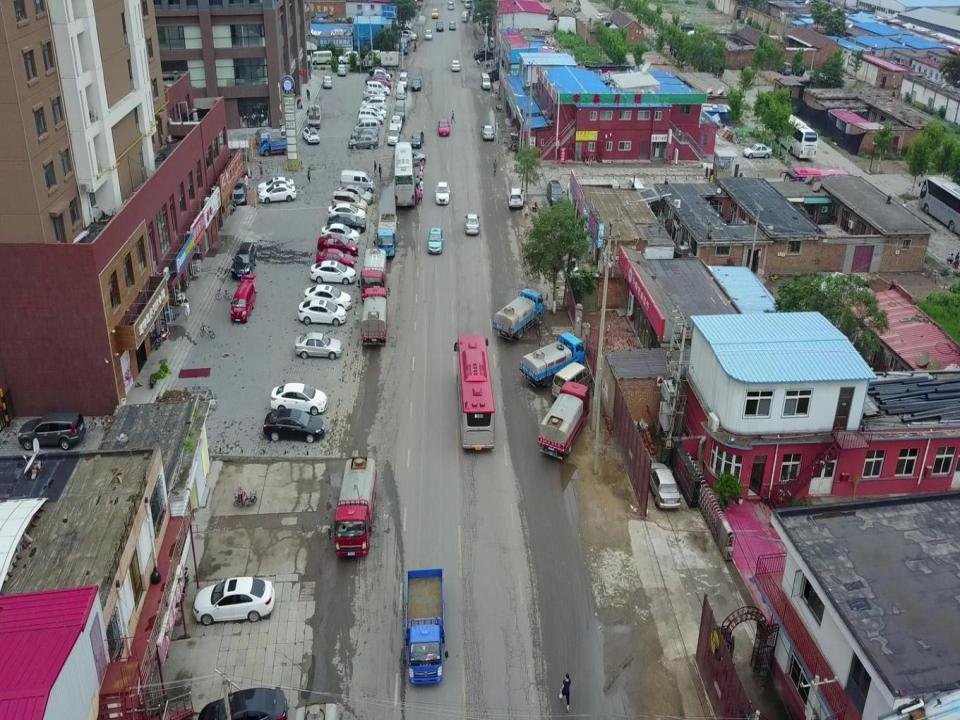bus: (453, 333, 496, 451), (779, 167, 851, 206), (774, 111, 818, 159), (393, 141, 416, 208)
car: (192, 576, 276, 626), (196, 687, 288, 720), (17, 410, 86, 450), (262, 408, 324, 442), (270, 381, 328, 415), (647, 461, 682, 509), (294, 332, 343, 360), (298, 298, 347, 326), (304, 283, 352, 311), (310, 260, 356, 285), (317, 232, 359, 256), (231, 242, 257, 279), (320, 222, 360, 246), (315, 248, 355, 271), (205, 192, 247, 213), (326, 213, 366, 234), (327, 202, 367, 223), (258, 183, 296, 203), (336, 184, 373, 204), (258, 176, 295, 194), (394, 150, 426, 168), (356, 108, 384, 125), (742, 143, 772, 158), (427, 227, 443, 255), (350, 128, 379, 143), (348, 134, 378, 148), (361, 95, 387, 110), (366, 80, 390, 96), (434, 181, 450, 204), (508, 186, 524, 209), (358, 105, 386, 118), (464, 213, 480, 234), (302, 126, 320, 144), (362, 88, 386, 100), (368, 66, 392, 78), (364, 73, 390, 84), (338, 51, 360, 64), (474, 47, 494, 61), (366, 79, 391, 90), (410, 130, 424, 148), (373, 68, 391, 81), (438, 118, 450, 137), (487, 68, 502, 82), (393, 20, 412, 31), (481, 124, 494, 140), (389, 116, 402, 132), (401, 29, 417, 41), (791, 62, 804, 76), (411, 76, 421, 92), (322, 76, 332, 88), (451, 59, 460, 71), (338, 64, 347, 76), (425, 29, 433, 41), (436, 20, 444, 31), (448, 21, 456, 30), (432, 7, 438, 18)
truck: (404, 568, 449, 684), (327, 456, 377, 558), (536, 380, 588, 461), (519, 331, 585, 388), (492, 288, 548, 342), (360, 286, 390, 345), (361, 248, 388, 301), (377, 212, 397, 258), (258, 135, 292, 156), (372, 50, 400, 71), (308, 104, 322, 128), (398, 40, 408, 54)
van: (551, 361, 590, 402), (332, 189, 368, 215), (340, 169, 375, 194), (546, 180, 565, 207), (356, 113, 380, 129), (354, 118, 379, 133), (309, 50, 333, 64), (255, 128, 271, 146), (387, 123, 399, 146), (776, 60, 792, 76), (394, 100, 405, 120), (364, 49, 380, 62), (480, 72, 491, 90), (280, 125, 290, 143), (399, 72, 408, 88), (396, 83, 404, 99), (461, 11, 469, 23), (447, 1, 454, 9), (464, 0, 471, 8)
